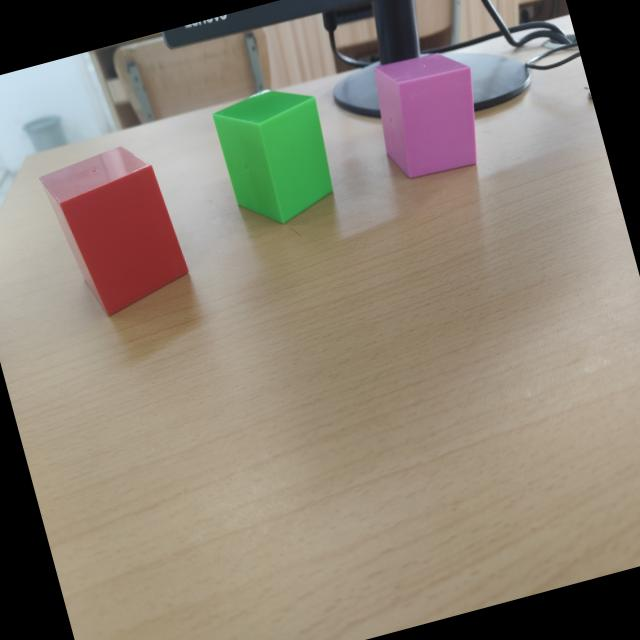green: (211, 90, 333, 225)
pink: (374, 54, 478, 180)
red: (39, 147, 189, 316)
